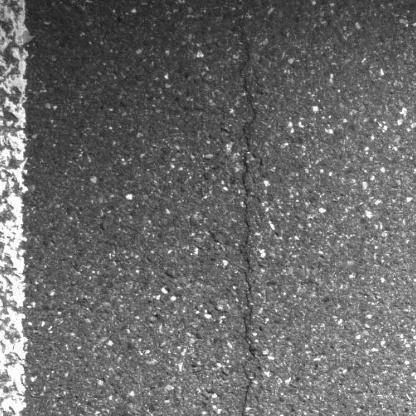Cracks: (235, 46, 268, 416)
